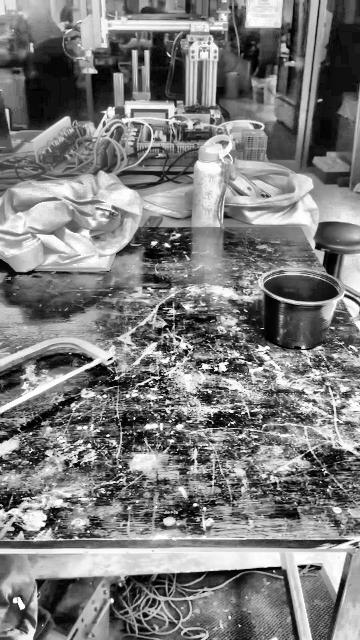pot: (261, 268, 343, 349)
